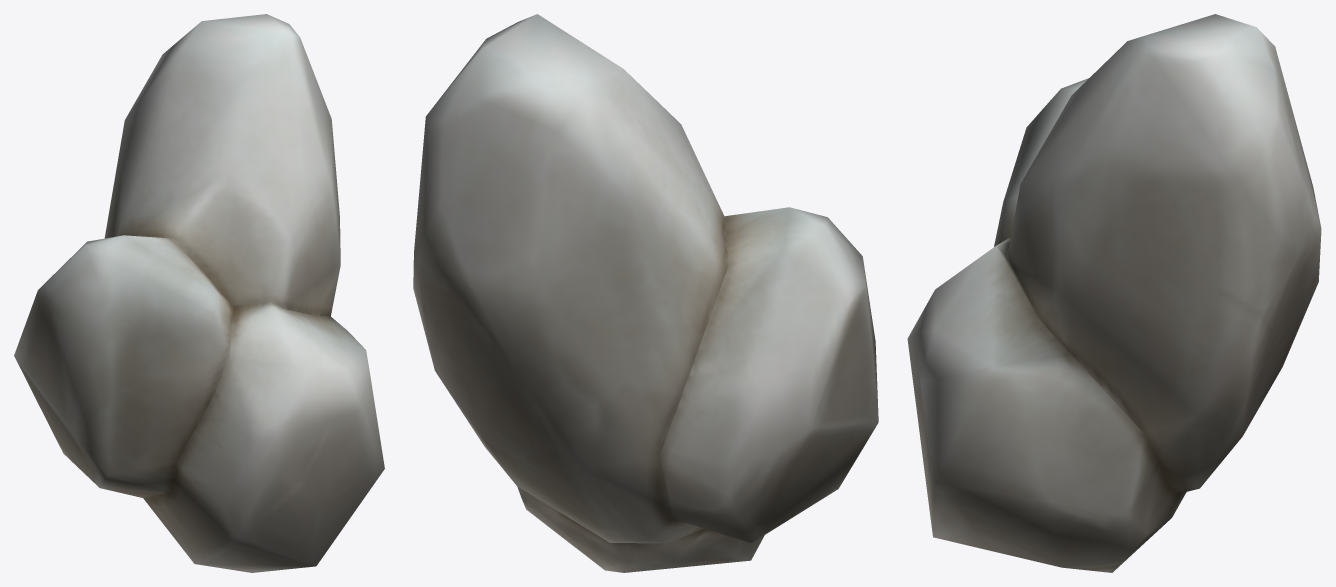
File: SM_Gem_Silver_008.fbx
3 renders of one model, left to right at view 1: azimuth 30°, elevation 25°; view 2: azimuth 150°, elevation 25°; view 3: azimuth 270°, elevation 25°, orthographic. The views are drawn at different scales.
Parts seen in each view (by area): view 1: SM_Gem_Silver_008; view 2: SM_Gem_Silver_008; view 3: SM_Gem_Silver_008.
Boxes of the visible parts, <box> form: SM_Gem_Silver_008: <box>14,14,384,572</box>; SM_Gem_Silver_008: <box>413,14,878,572</box>; SM_Gem_Silver_008: <box>907,14,1321,572</box>.
Bounding box in the file's own units: 21.79 × 31.44 × 20.72.
